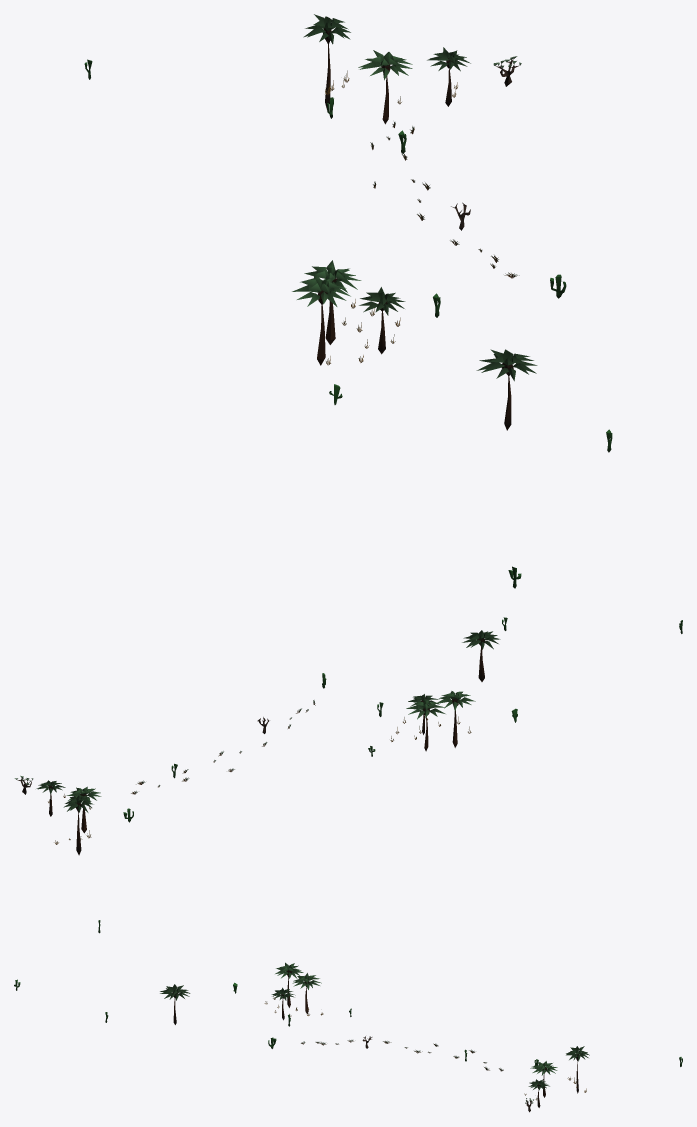
File: c_trees_desert_top_right.fbx
The picture shows the model from 3 angles, top to bottom: view 1: azimuth 30°, elevation 25°; view 2: azimuth 150°, elevation 25°; view 3: azimuth 270°, elevation 25°; orthographic projection. The views are drawn at different scales.
Parts seen in each view (by area): view 1: c_trees_desert_top_right; view 2: c_trees_desert_top_right; view 3: c_trees_desert_top_right.
Part boxes in pixels (left/top/right/bottom): c_trees_desert_top_right: left=84, top=14, right=612, bottom=588; c_trees_desert_top_right: left=14, top=617, right=682, bottom=933; c_trees_desert_top_right: left=14, top=962, right=682, bottom=1112.
Size of the model in its own units: 70.58 by 16.33 by 157.
